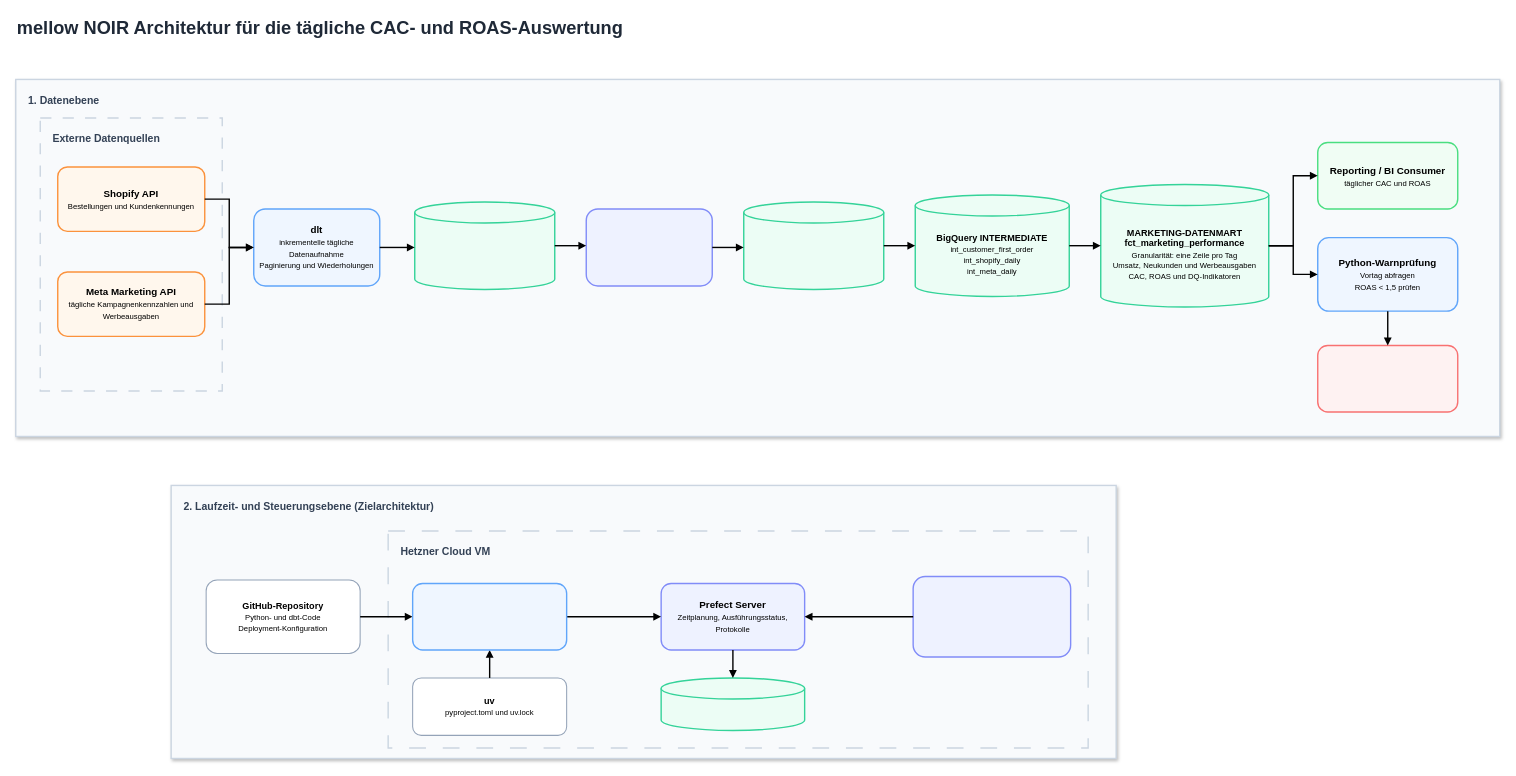
Image size: 1516x776. Some labels were removed from this diagram. Each missing label, with the centre of its shape:
BigQuery RAW / QUELLDATEN src_shopify_orders src_meta_insights: [484,245]
BigQuery STAGING stg_shopify_orders stg_meta_insights: [813,245]
dbt Core SQL-Transformationen Tests und Modellabhängigkeiten: [649,247]
Docker / Compose reproduzierbare Laufzeitumgebung: [489,616]
PostgreSQL Prefect-Metadaten: [732,704]
Prefect Worker Work Pool führt dlt-, dbt- und Warnaufgaben aus: [991,616]
Slack-Webhook formatierte Warnmeldung: [1387,378]
